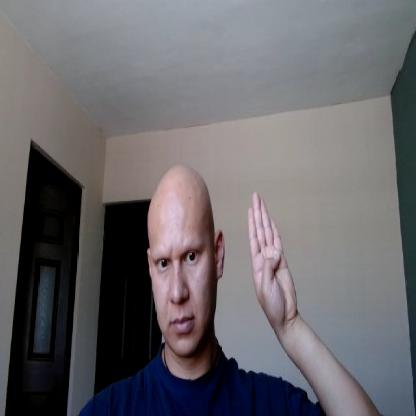B: (247, 188, 298, 327)
